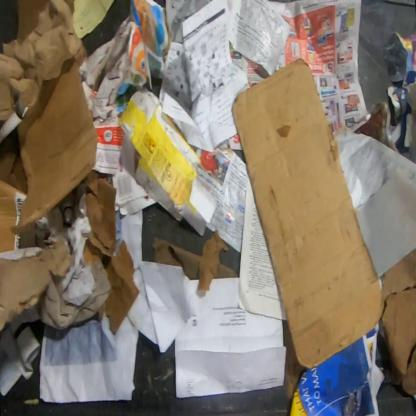cardboard: (232, 56, 386, 369), (9, 43, 97, 235), (118, 87, 218, 238), (0, 235, 76, 335), (379, 244, 415, 398), (0, 136, 27, 253), (386, 67, 415, 167), (281, 318, 308, 402), (16, 0, 47, 39), (83, 238, 104, 266), (64, 0, 75, 16)
